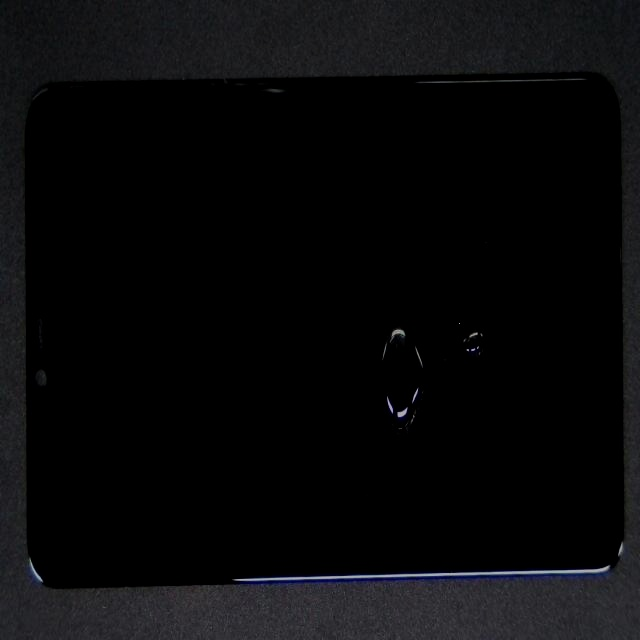oil: (175, 157, 575, 607), (223, 148, 640, 531)
